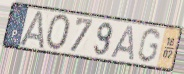7: (70, 16, 95, 55)
9: (94, 22, 114, 58)
A: (17, 9, 45, 51), (109, 24, 135, 62)
G: (136, 27, 162, 65)
O: (44, 13, 71, 52)
